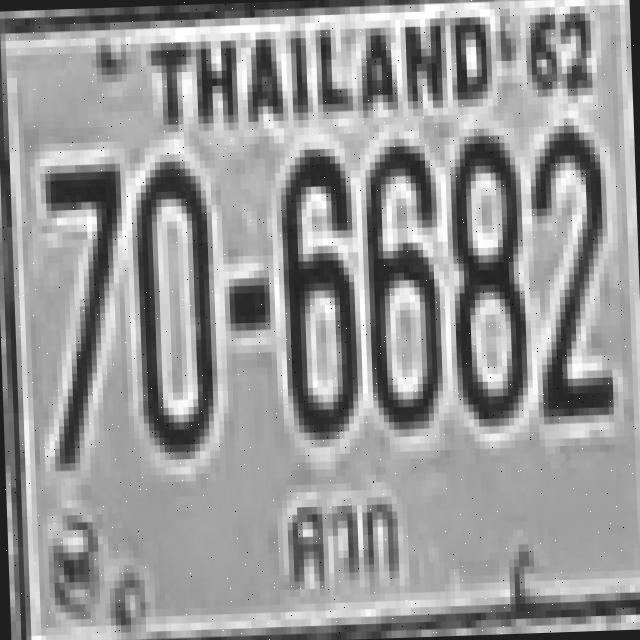0: (130, 156, 214, 448)
2: (526, 125, 611, 416)
6: (274, 140, 354, 432), (358, 138, 438, 422)
7: (39, 160, 124, 460), (39, 156, 124, 434), (40, 160, 122, 363)
8: (444, 128, 524, 420)
Tak: (274, 481, 407, 592)
